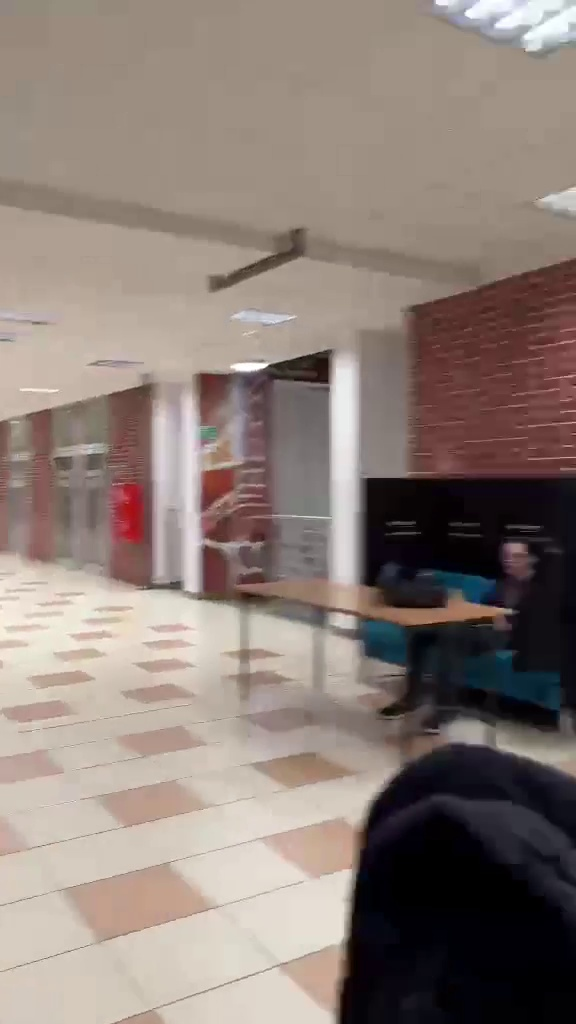no vest: (390, 532, 539, 743)
